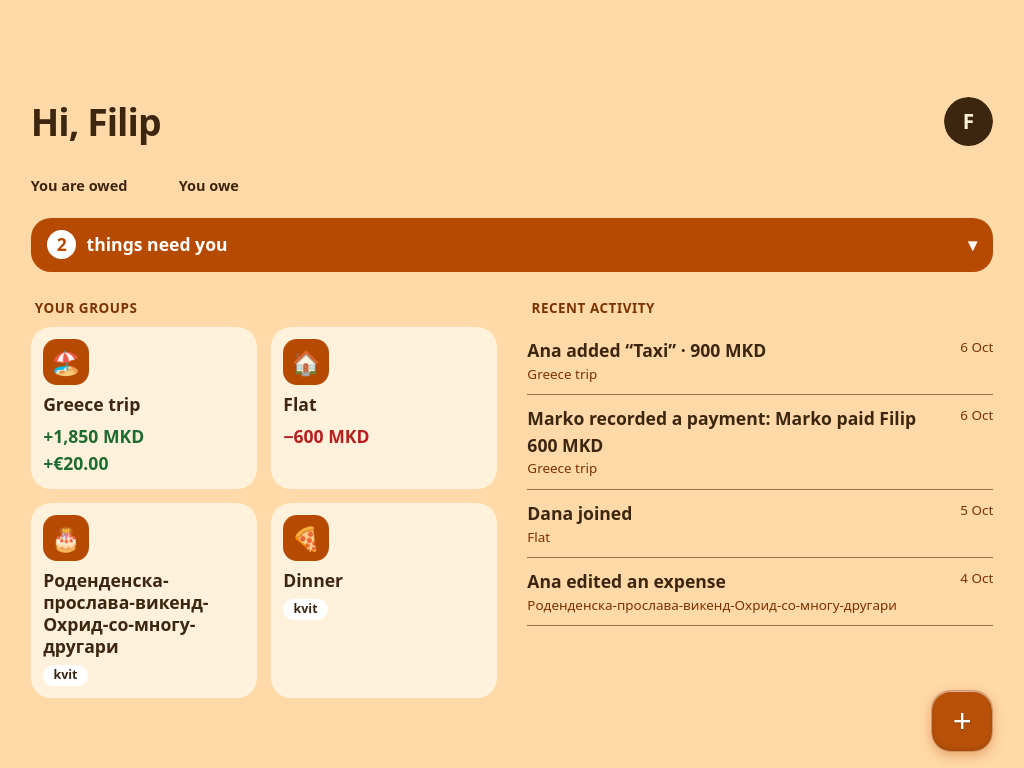
Test: the pinned Needs you bar › opens the cards when tapped and says so with aria-expanded
expect the heading "Your groups" is shown: met, box [35,299,137,317]
What coordinates should you click on to do the following:
click the button "2 things need you ▾"
I would click on:
 (157, 244)
Its box is [31,218,993,272].
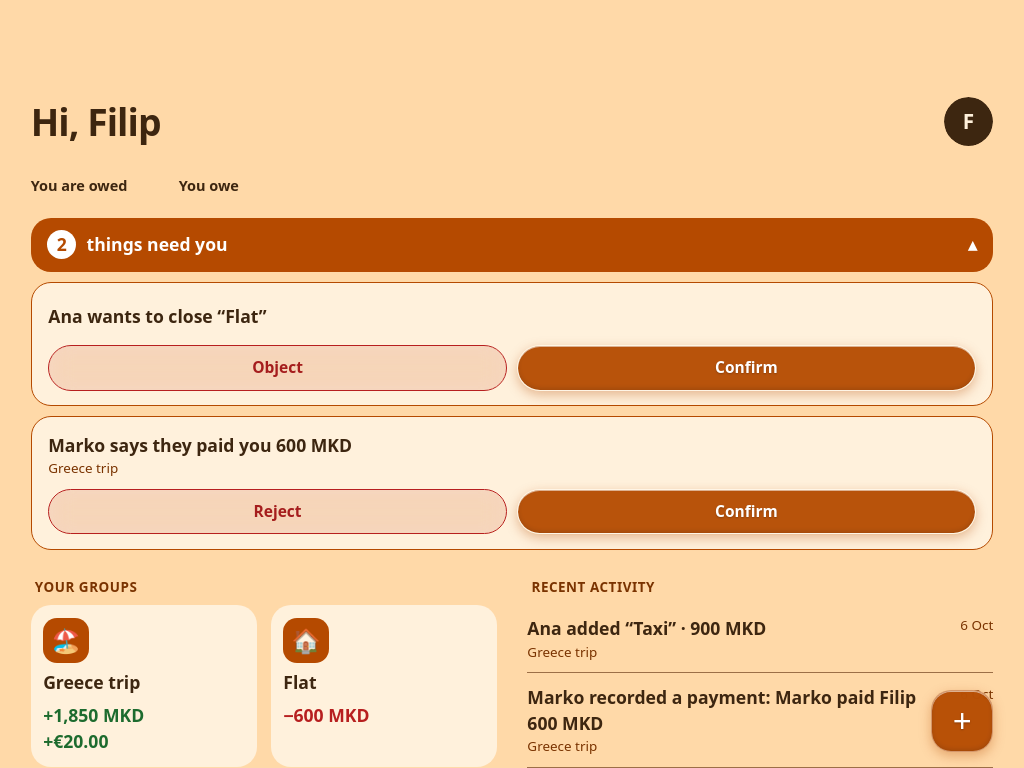
expect the button "2 things need you ▴" is expanded: met, box [31,218,993,272]
